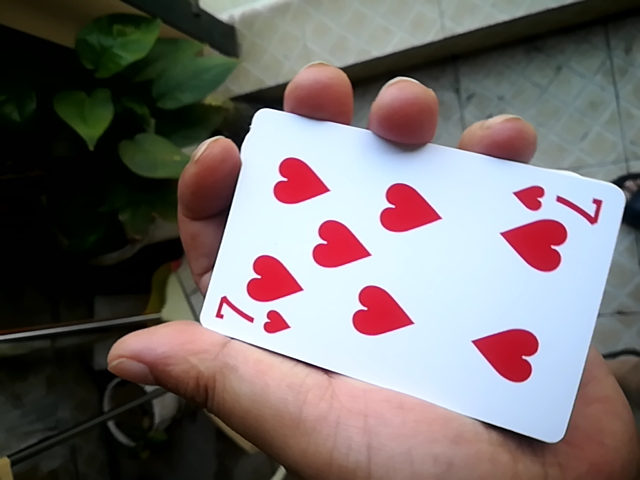hx 7: (190, 98, 632, 449)
